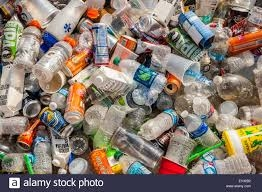metal: (18, 87, 41, 118)
plastic: (29, 34, 78, 84), (109, 124, 163, 165), (111, 56, 165, 93), (183, 150, 253, 174), (179, 110, 223, 148), (90, 103, 124, 151), (13, 18, 42, 72), (212, 75, 262, 106), (28, 122, 55, 174), (58, 78, 87, 126), (162, 53, 201, 86), (179, 9, 212, 47), (93, 68, 137, 95), (90, 20, 111, 68)
